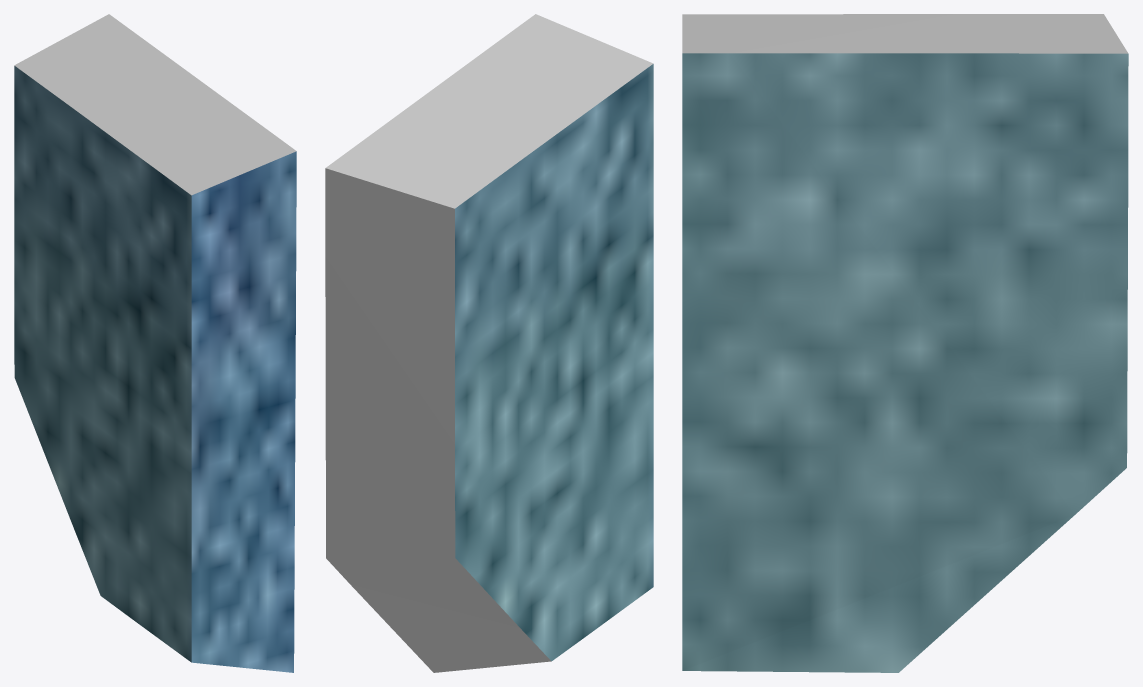
3 renders of one model, left to right at view 1: azimuth 30°, elevation 25°; view 2: azimuth 150°, elevation 25°; view 3: azimuth 270°, elevation 25°, orthographic. The views are drawn at different scales.
Visible parts, largest first — view 1: Cube_cell.024_Mesh.024; view 2: Cube_cell.024_Mesh.024; view 3: Cube_cell.024_Mesh.024.
Part boxes in pixels (bbox=[...]): Cube_cell.024_Mesh.024: bbox=[14, 14, 296, 672]; Cube_cell.024_Mesh.024: bbox=[325, 14, 653, 672]; Cube_cell.024_Mesh.024: bbox=[682, 14, 1128, 672].
Bounding box in the file's own units: 0.0832 × 0.3939 × 0.2569.
